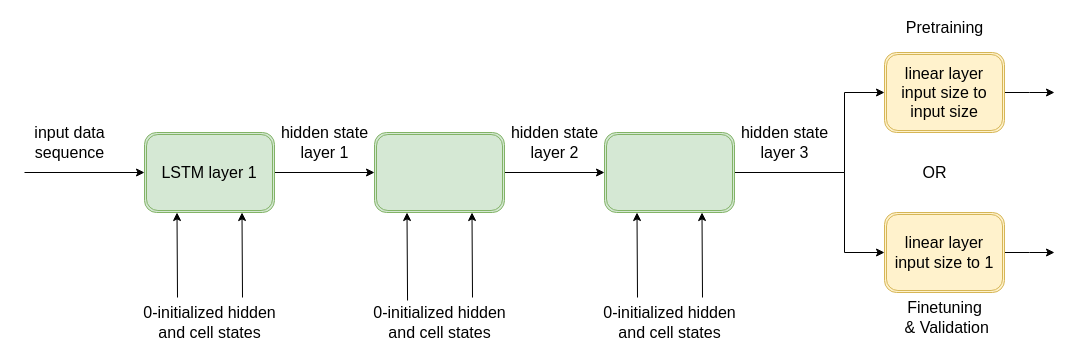
Image size: 1080x359. Some labels were removed from this diagram. The centre of each missing label's shape, as x and y in pixels:
LSTM layer 2: pixel 439 172
LSTM layer 3: pixel 669 172
